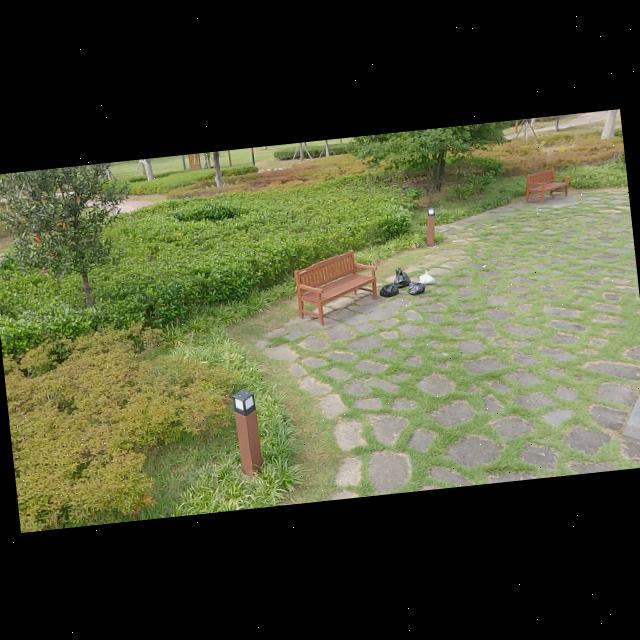trash: (391, 263, 414, 289), (414, 265, 438, 288), (404, 278, 426, 296), (378, 276, 398, 295)
